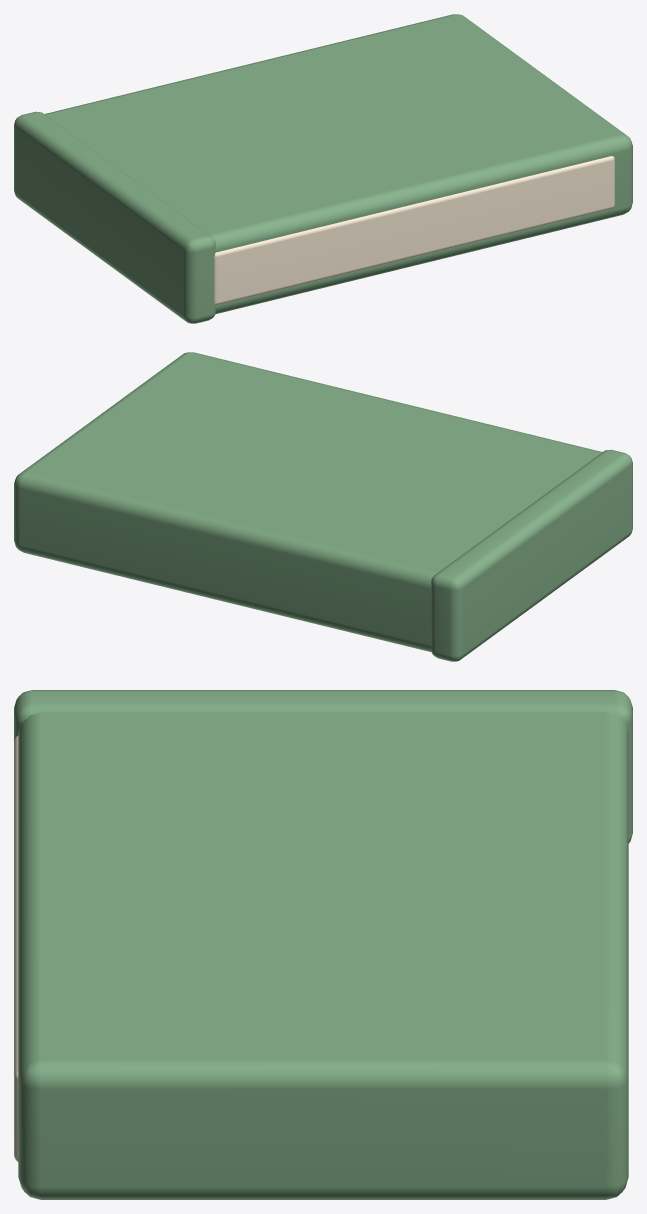
File: booksBookGreen.glb
3 renders of one model, top to bottom at view 1: azimuth 30°, elevation 25°; view 2: azimuth 150°, elevation 25°; view 3: azimuth 270°, elevation 25°, orthographic. The views are drawn at different scales.
Parts seen in each view (by area): view 1: Book cover, Pages, Spine; view 2: Book cover, Spine; view 3: Book cover, Spine, Pages.
Boxes of the visible parts, x1=… form: Book cover: x1=44, y1=14, x2=632, y2=314; Pages: x1=214, y1=156, x2=614, y2=305; Spine: x1=14, y1=111, x2=215, y2=323; Book cover: x1=14, y1=352, x2=602, y2=652; Spine: x1=431, y1=449, x2=632, y2=661; Book cover: x1=18, y1=711, x2=628, y2=1199; Spine: x1=14, y1=690, x2=632, y2=843; Pages: x1=14, y1=735, x2=18, y2=1161.
Bounding box in the file's own units: 1 × 0.18 × 0.69.
